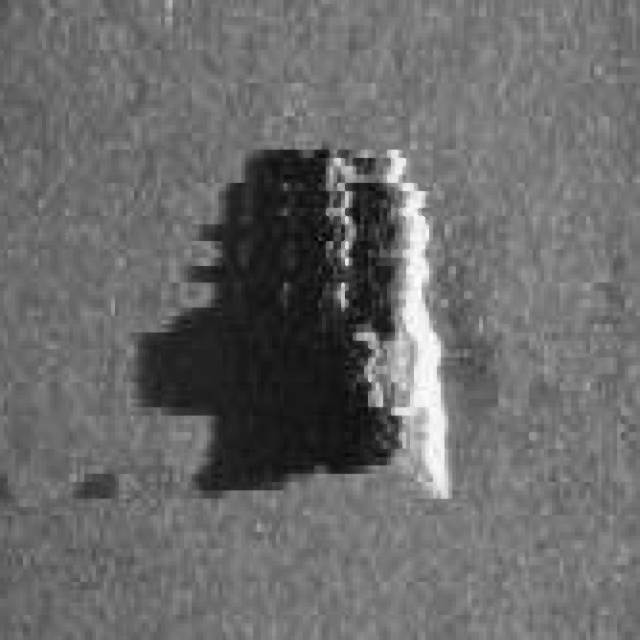Ship: (299, 130, 461, 508)
